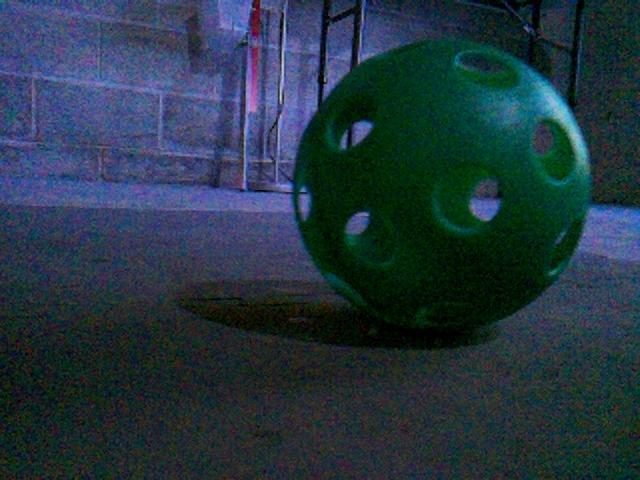Green: (291, 39, 592, 332)
